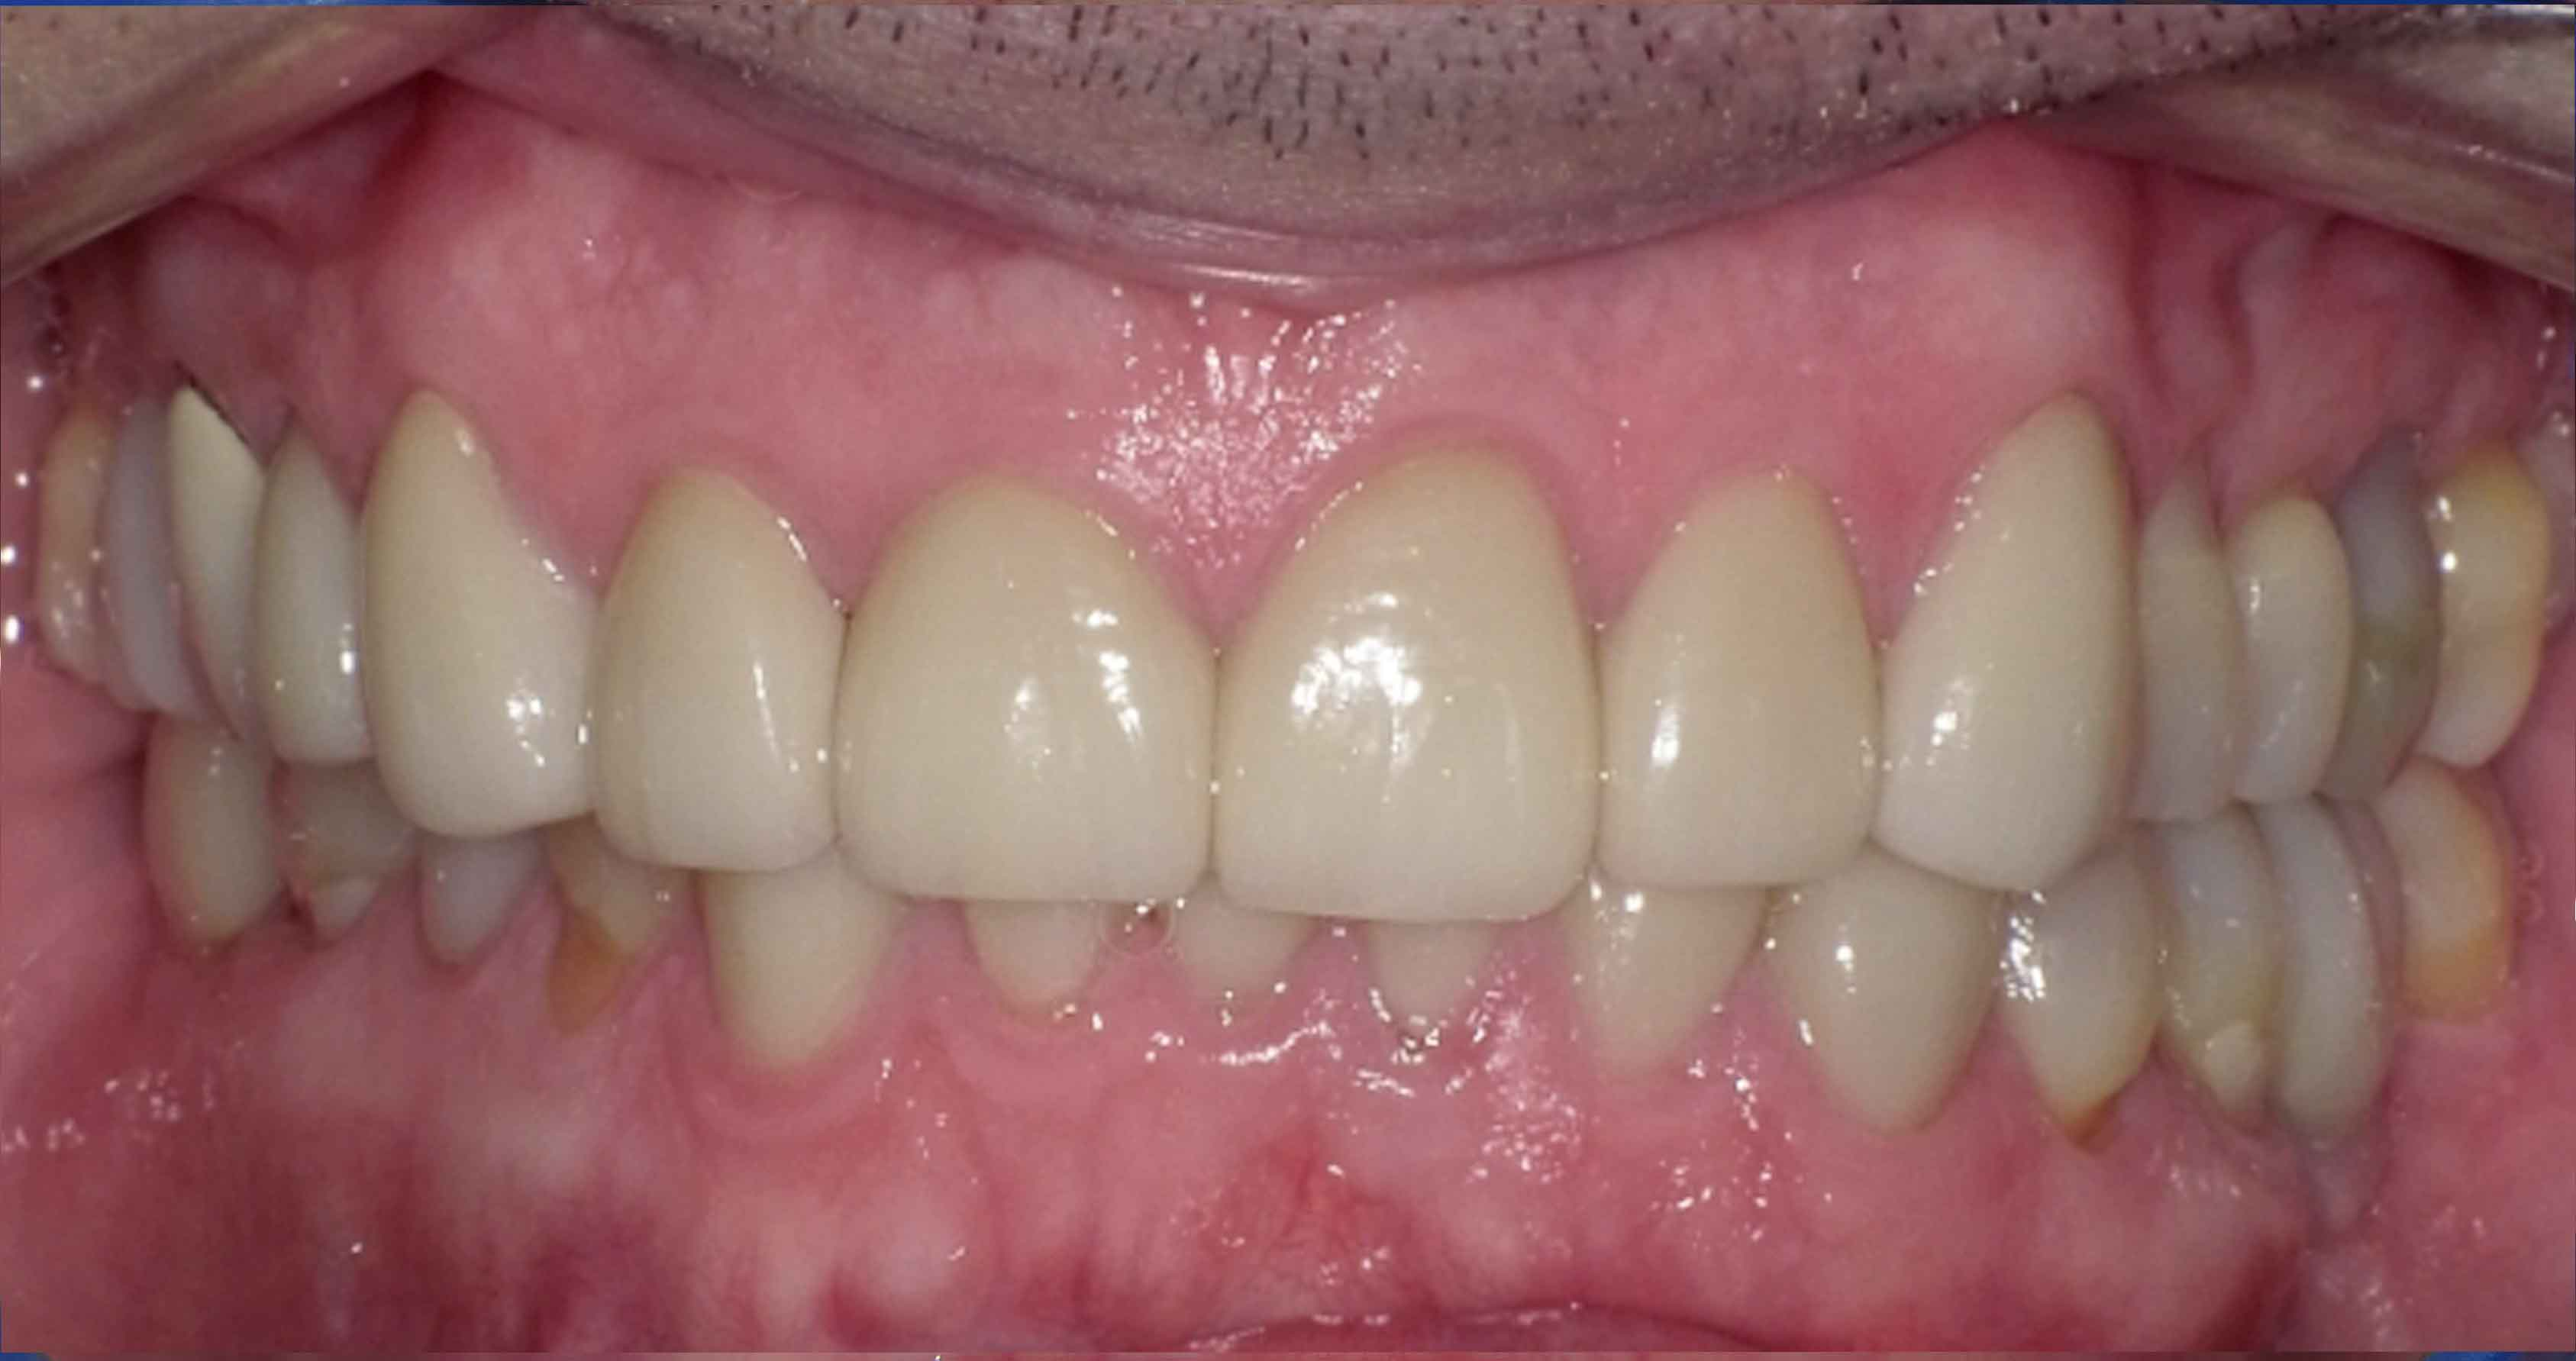UL1BC_healthy: (2135, 470, 2235, 821)
UL1M_decay: (2344, 446, 2440, 806)
UL2BC_healthy: (2237, 492, 2348, 801)
UL2M_healthy: (2438, 462, 2537, 761)
ULCI_healthy: (1222, 462, 1598, 910)
ULC_healthy: (1876, 402, 2140, 887)
ULLI_healthy: (1598, 470, 1876, 889)
UR1BC_healthy: (256, 434, 368, 763)
UR1M_decay: (94, 407, 179, 709)
UR2BC_healthy: (167, 393, 256, 717)
UR2M_healthy: (34, 416, 97, 669)
URCI_healthy: (831, 492, 1216, 898)
URC_healthy: (359, 399, 589, 833)
URLI_healthy: (589, 474, 831, 872)
